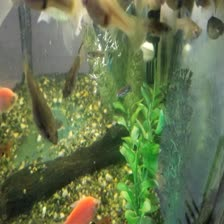Guppy: (18, 60, 57, 144), (58, 33, 87, 103), (174, 11, 201, 44), (113, 77, 135, 98), (84, 47, 109, 61)
Plano: (61, 189, 104, 223)
